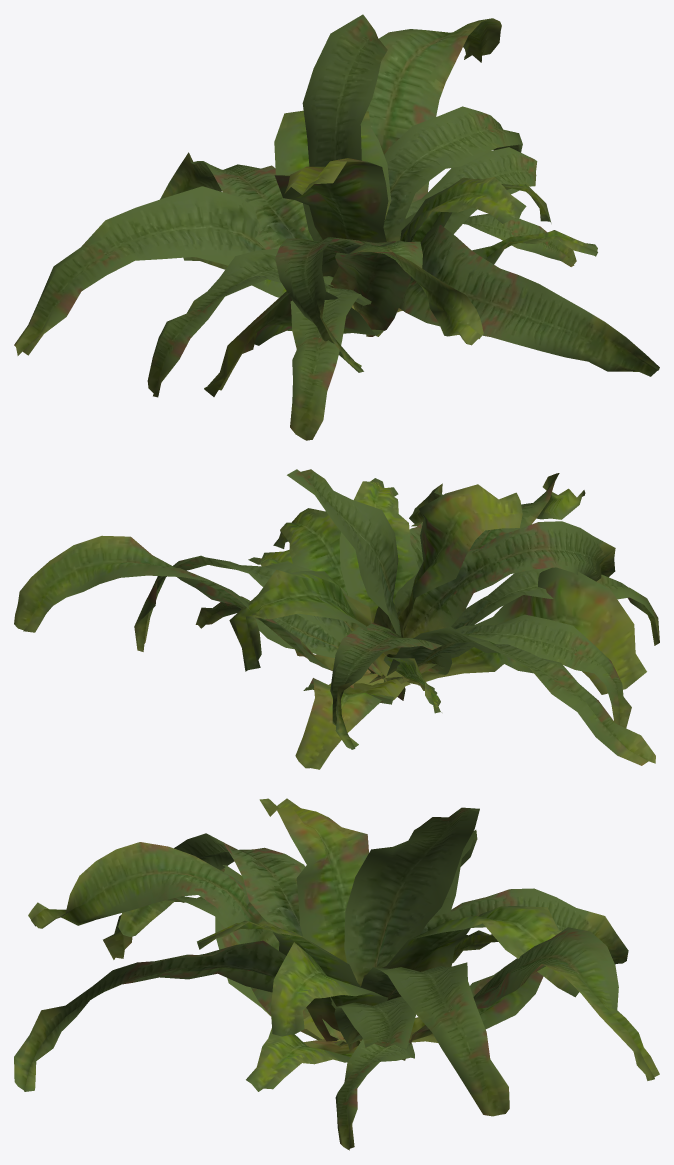
The model's file is fern_02.glb.
The picture shows the model from 3 angles, top to bottom: view 1: azimuth 30°, elevation 25°; view 2: azimuth 150°, elevation 25°; view 3: azimuth 270°, elevation 25°; orthographic projection. The views are drawn at different scales.
Visible parts, largest first — view 1: fern_02_b; view 2: fern_02_b; view 3: fern_02_b.
Part boxes in pixels (x1=…): fern_02_b: x1=14, y1=14, x2=659, y2=440; fern_02_b: x1=14, y1=469, x2=659, y2=769; fern_02_b: x1=14, y1=798, x2=659, y2=1150.
Size of the model in its own units: 0.9897 by 0.4277 by 0.8937.
Materials: 1 (1 with a texture image).
